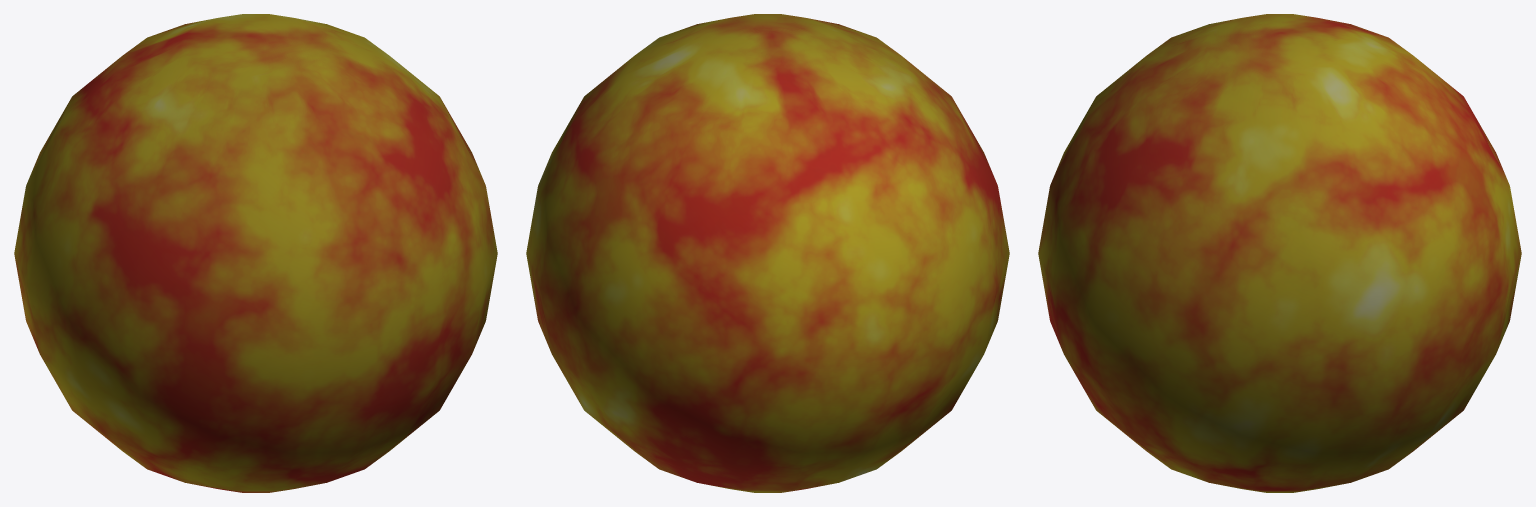
The model's file is Star_Sun.fbx.
3 views of the same model, side by side, from view 1: azimuth 30°, elevation 25°; view 2: azimuth 150°, elevation 25°; view 3: azimuth 270°, elevation 25° (orthographic).
Visible parts, largest first — view 1: Star_Sun; view 2: Star_Sun; view 3: Star_Sun.
Boxes of the visible parts, <box> form: Star_Sun: <box>14,14,497,492</box>; Star_Sun: <box>526,14,1009,492</box>; Star_Sun: <box>1038,14,1521,492</box>.
Bounding box in the file's own units: 217 × 220 × 220.
